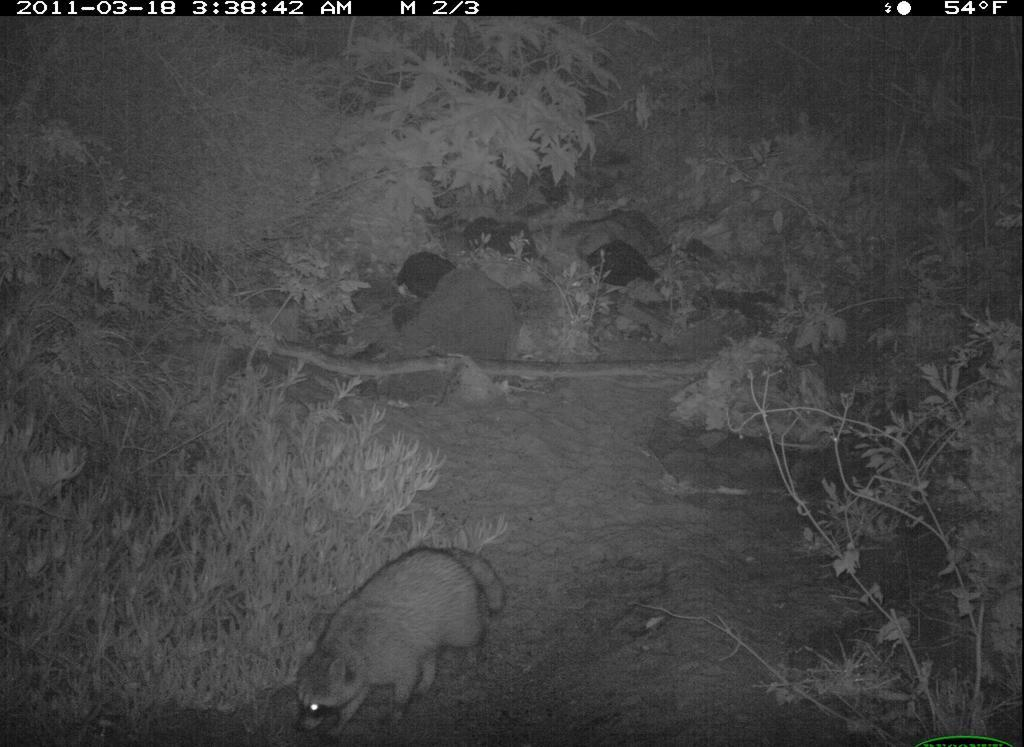raccoon: (283, 537, 509, 747)
